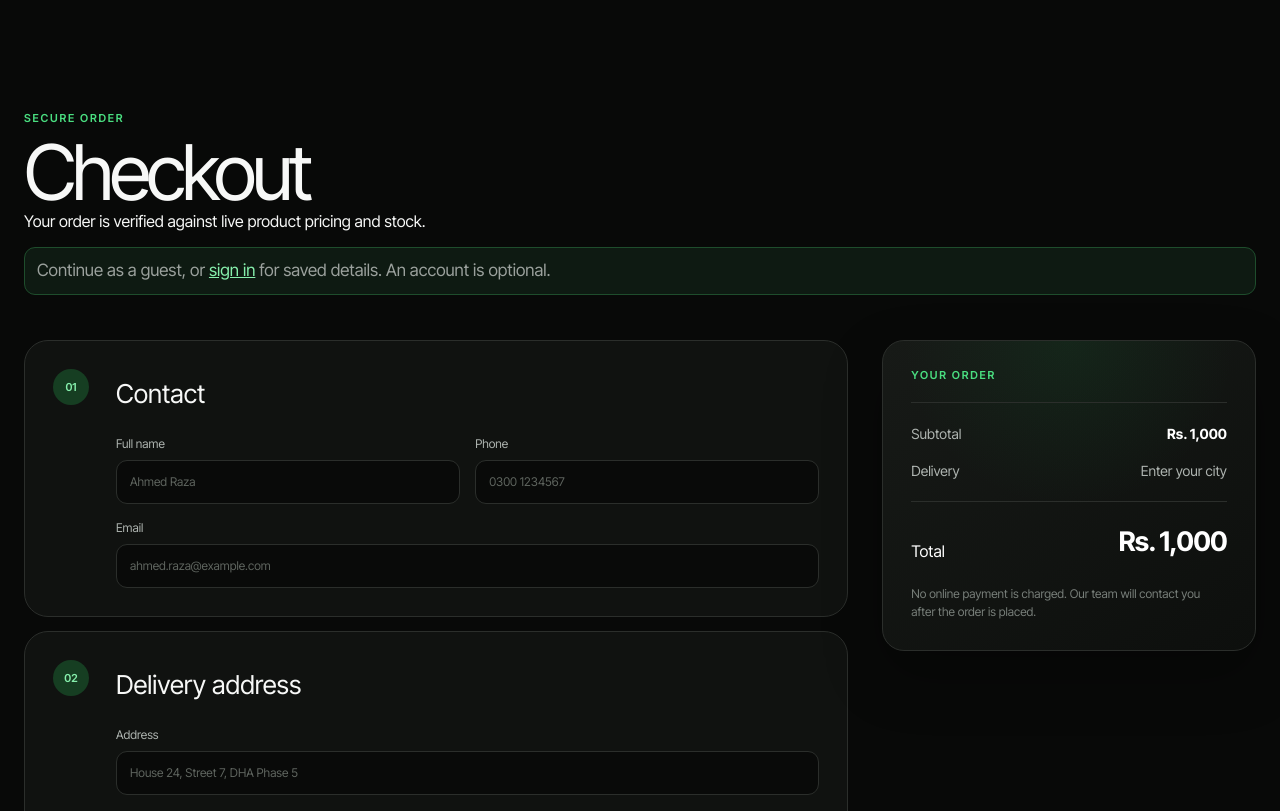
guests can place an order with sign-in remaining optional
The image size is (1280, 811).
expect the text "An account is optional" is shown: met, box [255,260,550,280]
Type "Guest Shopper" into the field labelled "Full name". click: (288, 482)
box: [116,460,460,504]
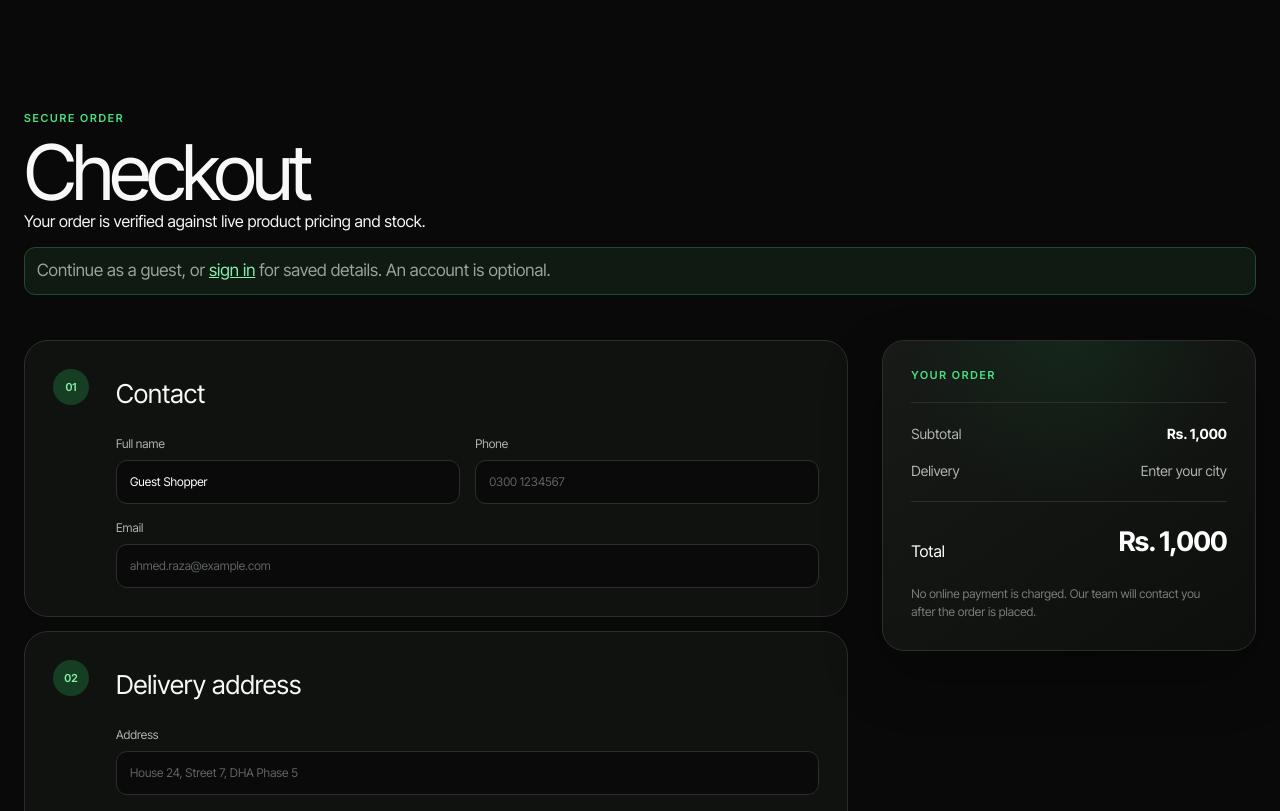
Type "guest@example.com" into the field labelled "Email". click: (468, 566)
box: [116,544,819,588]
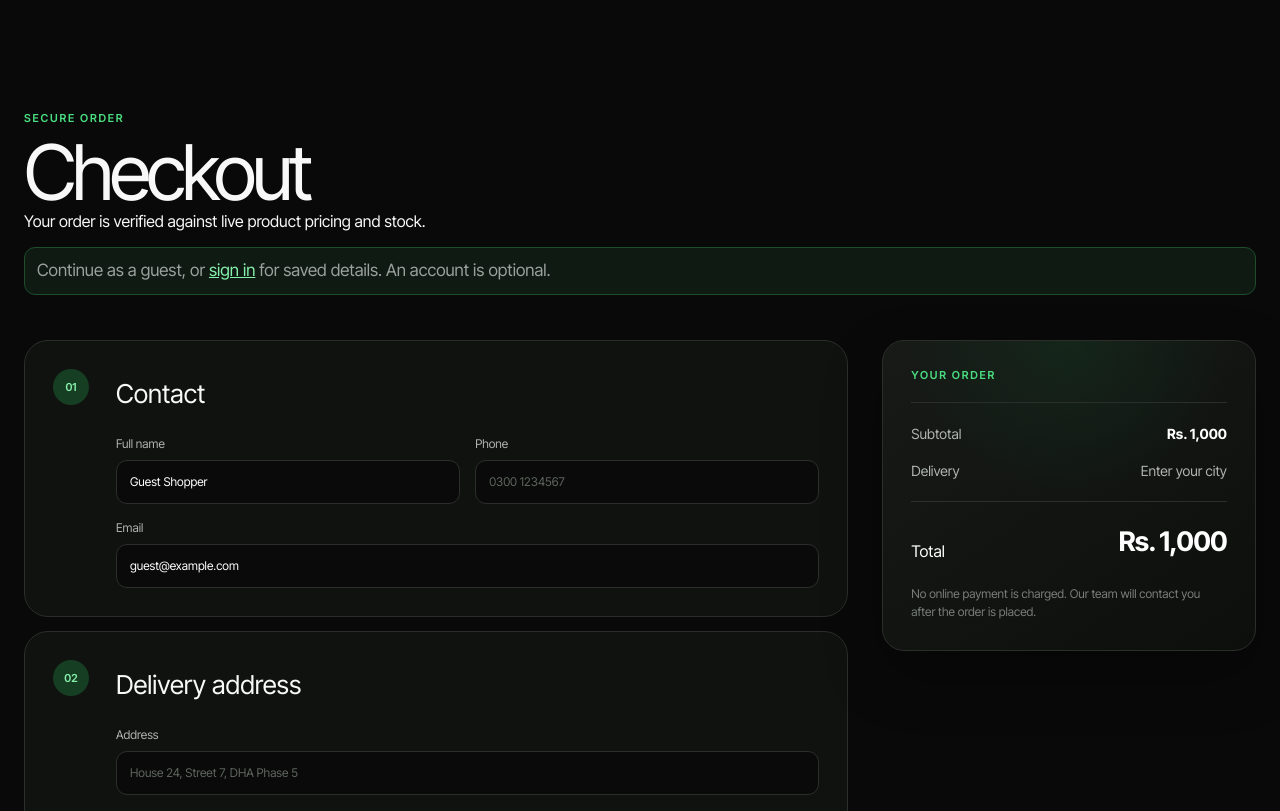
Type "03001234567" into the field labelled "Phone". click: (647, 482)
box: [475,460,819,504]
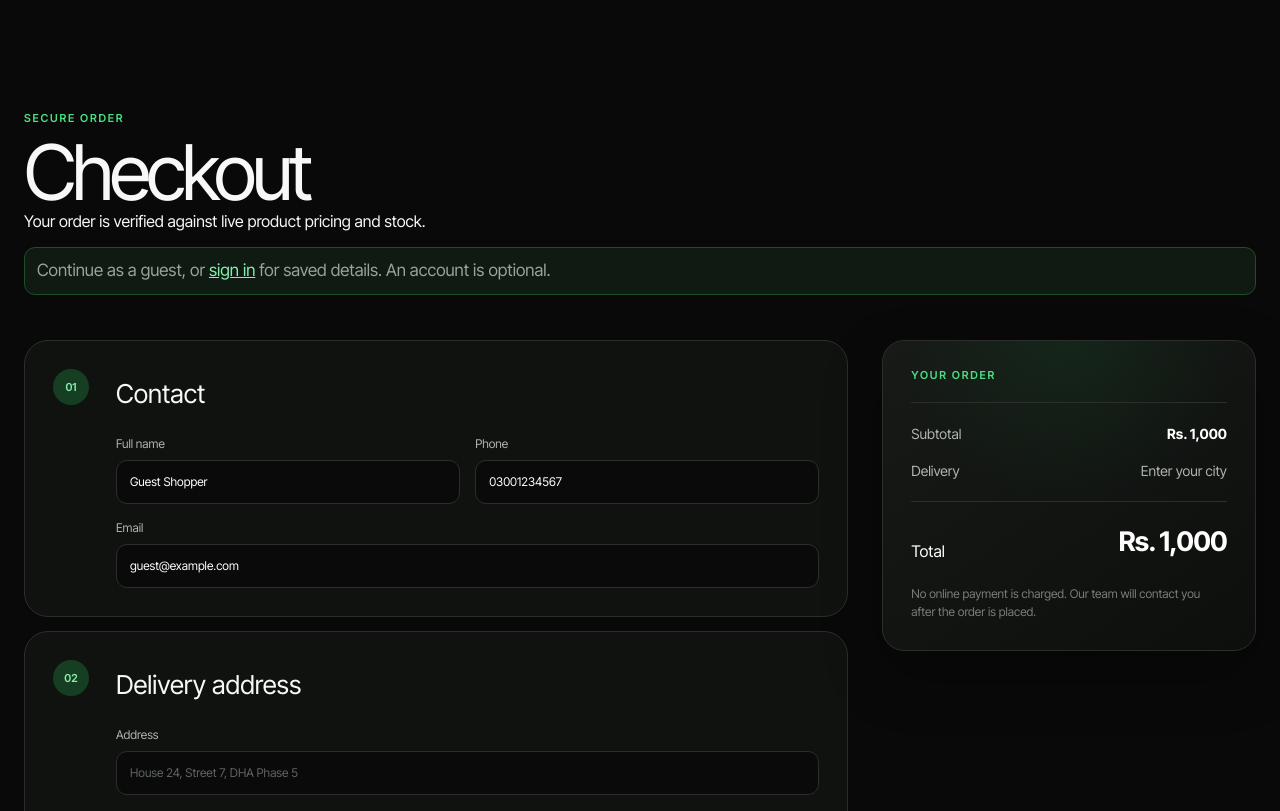
Type "House 1" into the field labelled "Address". click: (468, 773)
box: [116,751,819,795]
(page scrolled)
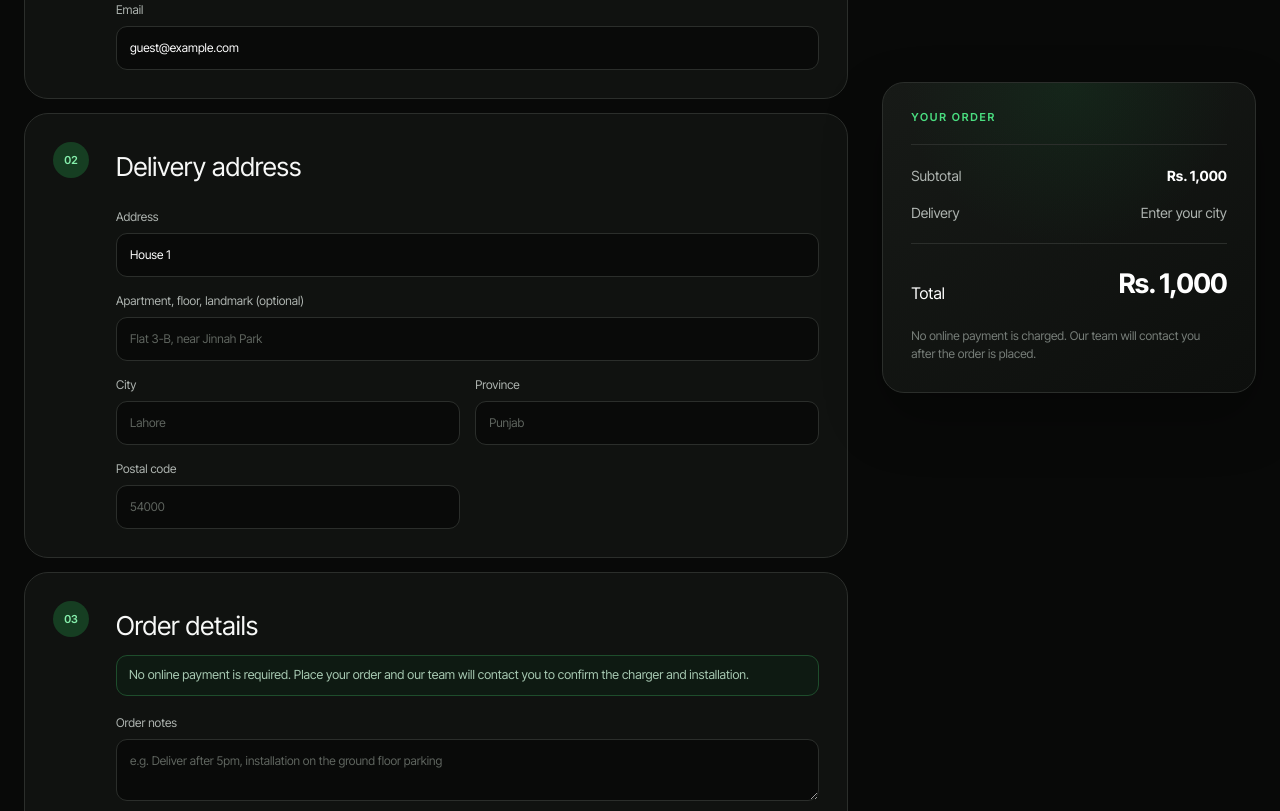
Type "Karachi" into the field labelled "City". click: (288, 423)
box: [116,401,460,445]
(page scrolled)
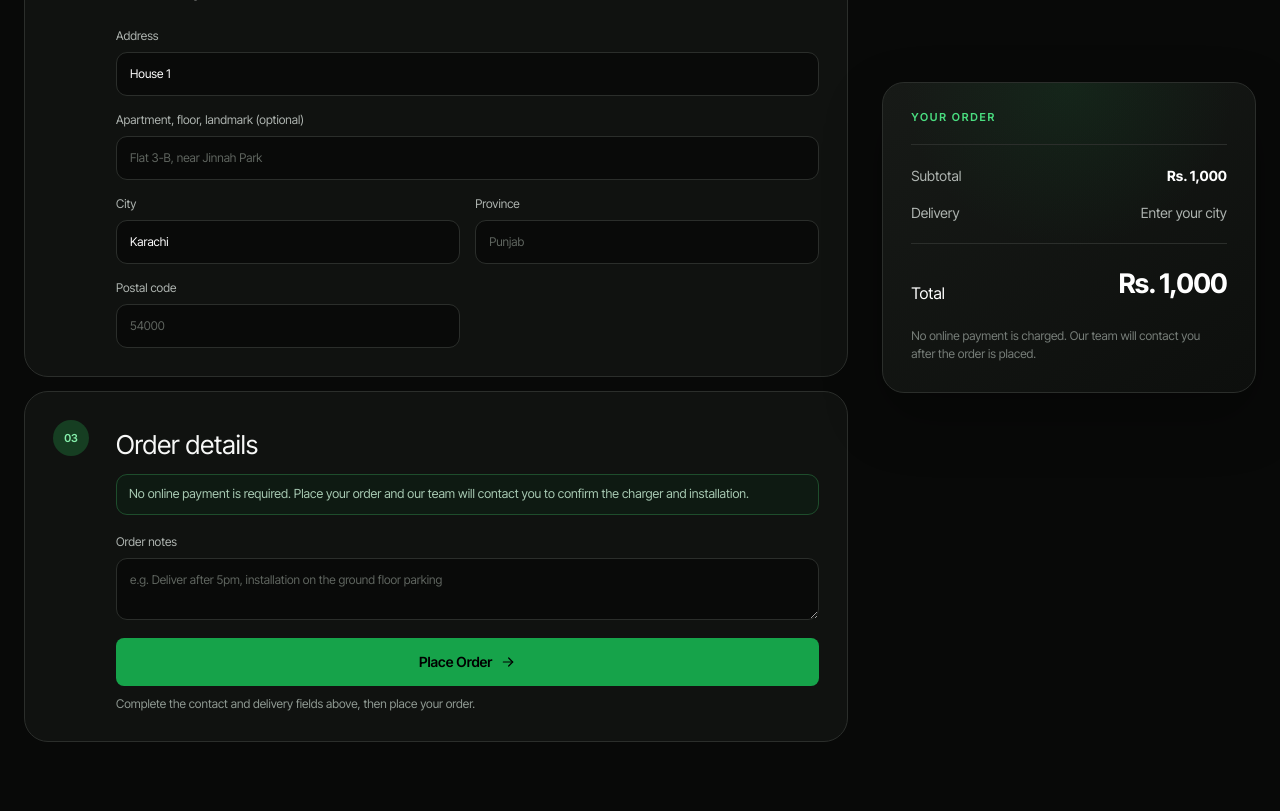
Click the button "Place Order". click: click(468, 662)
box: [116,638,819,686]
(page scrolled)
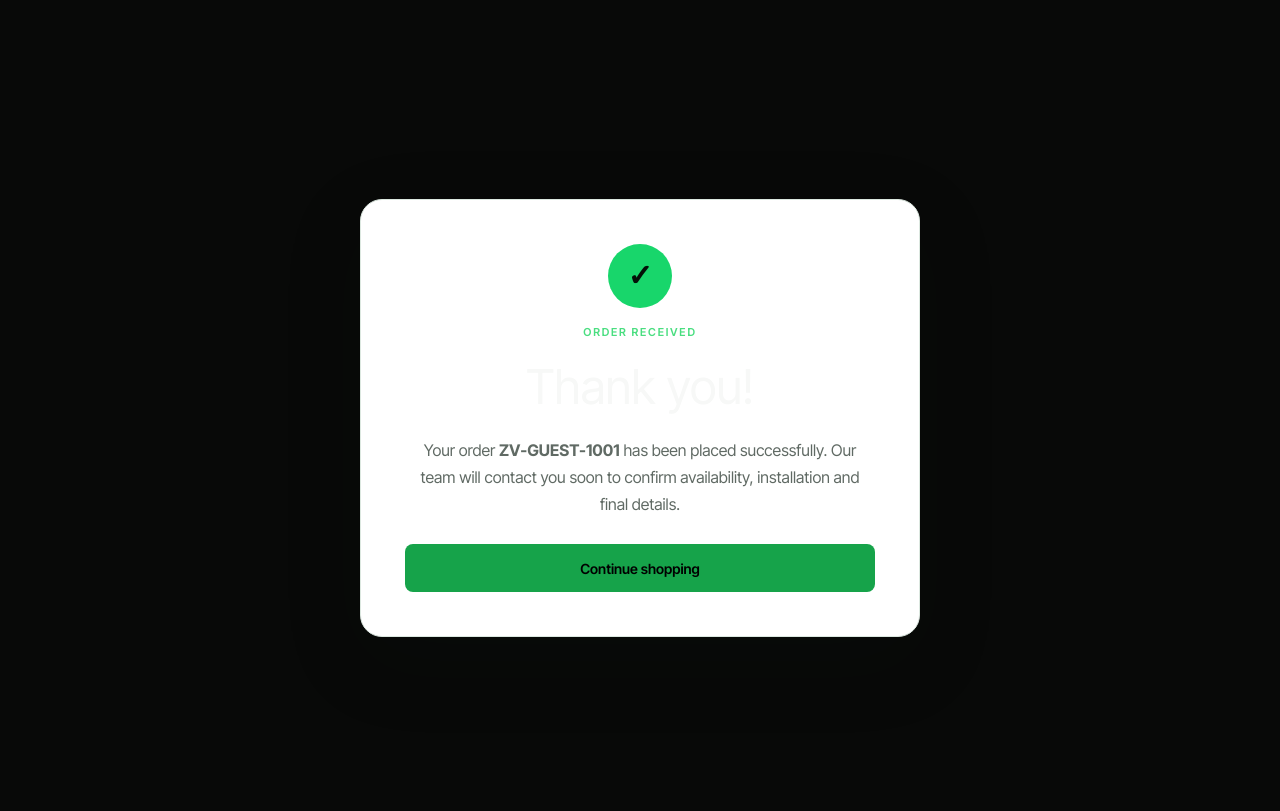
expect the text "Our team will contact you soon" is shown: met, box [421,440,860,514]
